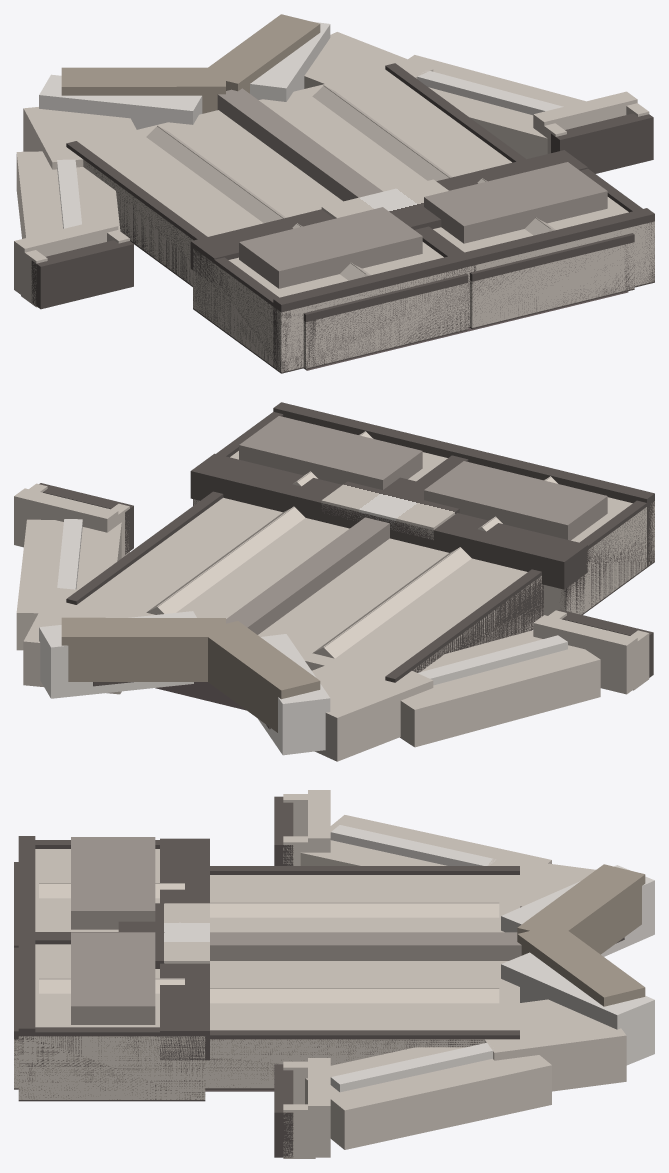
The model's file is CMU3DRMCCoatSnowSurvivorWorldCloud.glb.
3 renders of one model, top to bottom at view 1: azimuth 30°, elevation 25°; view 2: azimuth 150°, elevation 25°; view 3: azimuth 270°, elevation 25°, orthographic. The views are drawn at different scales.
Visible parts, largest first — view 1: left tailored front continuous woven panel, right tailored front continuous woven panel, left insulated lower skirt continuous woven panel, left sewn lower pocket, right sewn lower pocket, short central coat closure, left cuff lower turned lip, left continuous angled sleeve, left broad connected shoulder, left continuous folded snow collar, left tailored front lower turned hem, right continuous angled sleeve (+24 smaller); view 2: left tailored front continuous woven panel, right tailored front continuous woven panel, source dark waist binding, left continuous angled sleeve, right continuous folded snow collar, left sewn lower pocket, right sewn lower pocket, left continuous folded snow collar, left broad connected shoulder, right continuous angled sleeve, left insulated lower skirt continuous woven panel, short central coat closure (+23 smaller); view 3: right tailored front continuous woven panel, right insulated lower skirt continuous woven panel, right continuous angled sleeve, left tailored front continuous woven panel, short central coat closure, right broad connected shoulder, right sewn lower pocket, left sewn lower pocket, source dark waist binding, left continuous folded snow collar, right turned collar leaf, right continuous folded snow collar (+25 smaller).
Boxes of the visible parts, x1=… form: left tailored front continuous woven panel: x1=81, y1=110, x2=468, y2=368; right tailored front continuous woven panel: x1=259, y1=69, x2=634, y2=327; left insulated lower skirt continuous woven panel: x1=193, y1=242, x2=469, y2=372; left sewn lower pocket: x1=239, y1=207, x2=422, y2=288; right sewn lower pocket: x1=424, y1=162, x2=607, y2=243; short central coat closure: x1=217, y1=88, x2=382, y2=201; left cuff lower turned lip: x1=31, y1=240, x2=133, y2=309; left continuous angled sleeve: x1=16, y1=151, x2=120, y2=238; left broad connected shoulder: x1=23, y1=107, x2=148, y2=169; left continuous folded snow collar: x1=61, y1=67, x2=225, y2=113; left tailored front lower turned hem: x1=303, y1=273, x2=468, y2=369; right continuous angled sleeve: x1=408, y1=55, x2=585, y2=159; left tailored front continuous woven panel: x1=258, y1=538, x2=543, y2=680; right tailored front continuous woven panel: x1=77, y1=497, x2=349, y2=618; source dark waist binding: x1=190, y1=453, x2=587, y2=589; left continuous angled sleeve: x1=400, y1=630, x2=600, y2=747; right continuous folded snow collar: x1=61, y1=617, x2=225, y2=681; left sewn lower pocket: x1=424, y1=461, x2=607, y2=540; right sewn lower pocket: x1=239, y1=416, x2=422, y2=489; left continuous folded snow collar: x1=201, y1=621, x2=320, y2=732; left broad connected shoulder: x1=312, y1=666, x2=433, y2=761; right continuous angled sleeve: x1=16, y1=519, x2=121, y2=650; left insulated lower skirt continuous woven panel: x1=544, y1=497, x2=654, y2=615; short central coat closure: x1=226, y1=517, x2=389, y2=634; right tailored front continuous woven panel: x1=14, y1=961, x2=519, y2=1088; right insulated lower skirt continuous woven panel: x1=18, y1=944, x2=205, y2=1099; right continuous angled sleeve: x1=305, y1=1047, x2=551, y2=1149; left tailored front continuous woven panel: x1=210, y1=875, x2=519, y2=932; short central coat closure: x1=210, y1=932, x2=521, y2=960; right broad connected shoulder: x1=463, y1=999, x2=626, y2=1091; right sewn lower pocket: x1=71, y1=932, x2=155, y2=1024; left sewn lower pocket: x1=71, y1=837, x2=155, y2=929; source dark waist binding: x1=160, y1=838, x2=209, y2=1060; left continuous folded snow collar: x1=517, y1=864, x2=645, y2=954; right turned collar leaf: x1=501, y1=952, x2=654, y2=1065; right continuous folded snow collar: x1=517, y1=924, x2=645, y2=1006.
Size of the model in its own units: 0.5125 by 0.066 by 0.4395.
7 materials, 1 textured.
